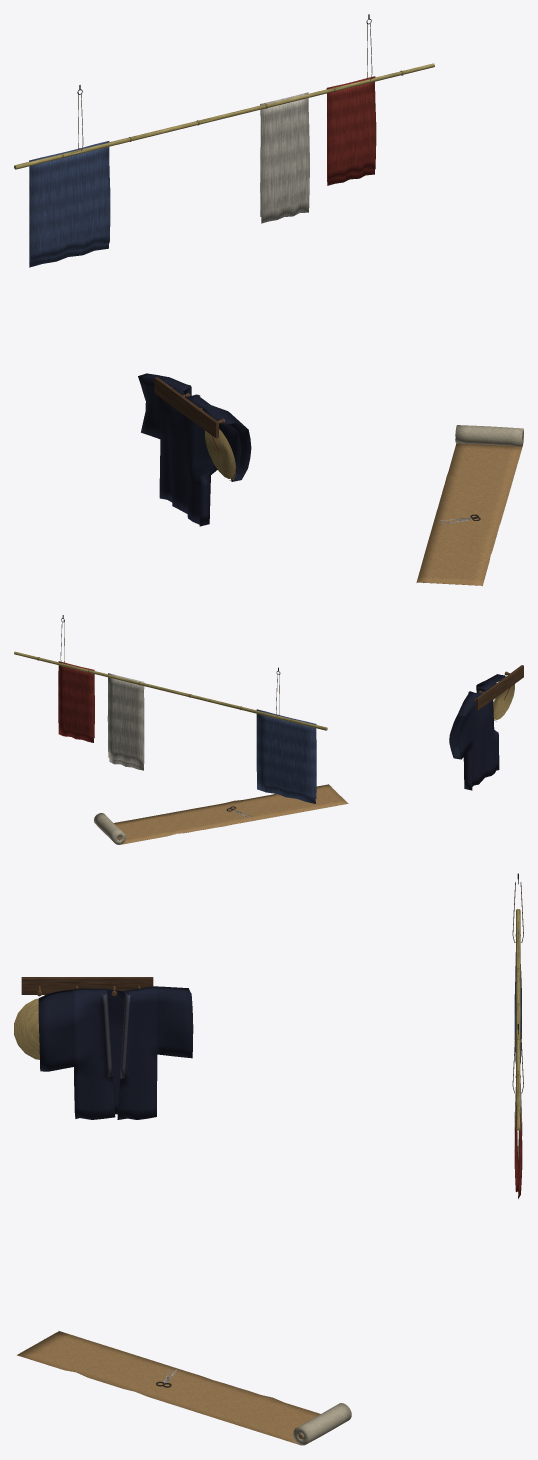
The model's file is upper-cloth-v2-sewn-hat.glb.
The picture shows the model from 3 angles, top to bottom: view 1: azimuth 30°, elevation 25°; view 2: azimuth 150°, elevation 25°; view 3: azimuth 270°, elevation 25°; orthographic projection. The views are drawn at different scales.
Visible parts, largest first — view 1: Bolt_unrolled, Laundry_fold_0, Haori_connected, Laundry_fold_1, Laundry_fold_2, UD_DryingPole_Cloths_v2, UD_CoatRail_Haori_v2, Bolt_cotton_roll; view 2: Bolt_unrolled, Laundry_fold_0, Haori_connected, Laundry_fold_1, Laundry_fold_2, UD_DryingPole_Cloths_v2, UD_CoatRail_Haori_v2, Bolt_cotton_roll; view 3: Haori_connected, Bolt_unrolled, UD_CoatRail_Haori_v2, UD_DryingPole_Cloths_v2, Bolt_cotton_roll.
Part boxes in pixels (x1,y1,x2,y2): Bolt_unrolled: (416, 443, 522, 585); Laundry_fold_0: (29, 141, 110, 267); Haori_connected: (138, 373, 251, 526); Laundry_fold_1: (260, 92, 309, 223); Laundry_fold_2: (326, 76, 376, 185); UD_DryingPole_Cloths_v2: (14, 14, 434, 169); UD_CoatRail_Haori_v2: (154, 377, 236, 480); Bolt_cotton_roll: (455, 425, 523, 446); Bolt_unrolled: (114, 784, 348, 844); Laundry_fold_0: (256, 709, 316, 803); Haori_connected: (449, 674, 505, 790); Laundry_fold_1: (107, 673, 144, 770); Laundry_fold_2: (58, 661, 94, 742); UD_DryingPole_Cloths_v2: (14, 615, 327, 730); UD_CoatRail_Haori_v2: (474, 665, 523, 721); Bolt_cotton_roll: (94, 813, 125, 844); Haori_connected: (38, 986, 193, 1119); Bolt_unrolled: (17, 1331, 320, 1445); UD_CoatRail_Haori_v2: (14, 977, 153, 1059); UD_DryingPole_Cloths_v2: (512, 873, 523, 1130); Bolt_cotton_roll: (293, 1403, 351, 1445).
Bounding box in the file's own units: 3.12 × 2.45 × 2.87.
10 materials, 9 textured.
